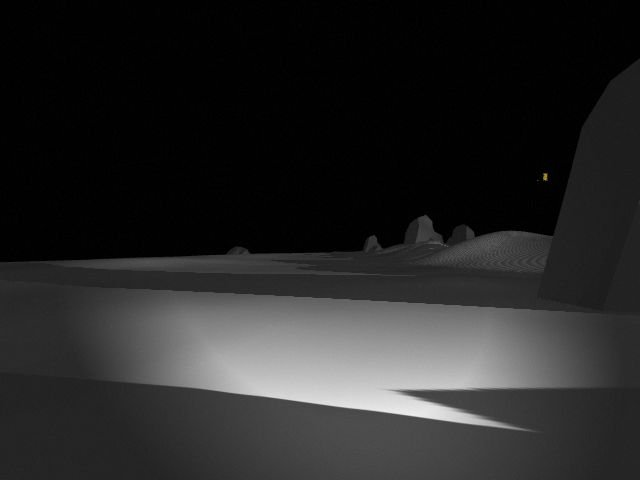cubesat: (536, 172, 550, 186)
